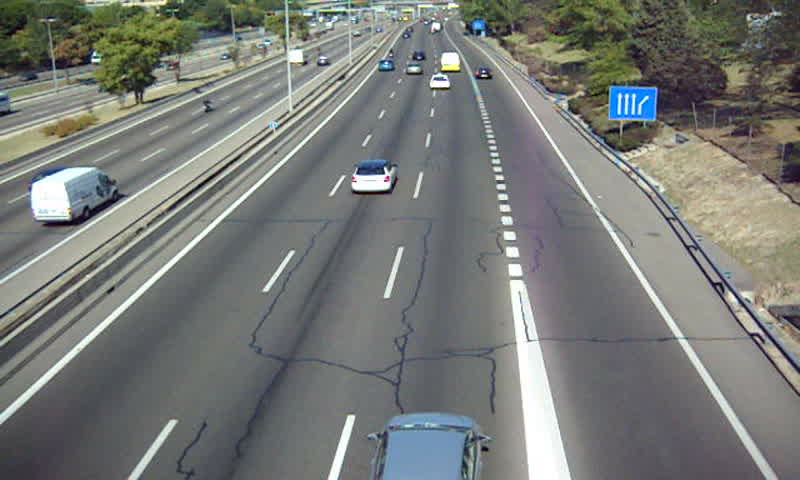car: (371, 414, 482, 480), (353, 160, 397, 192), (428, 75, 452, 90), (474, 68, 493, 81)
van: (440, 52, 460, 71)
